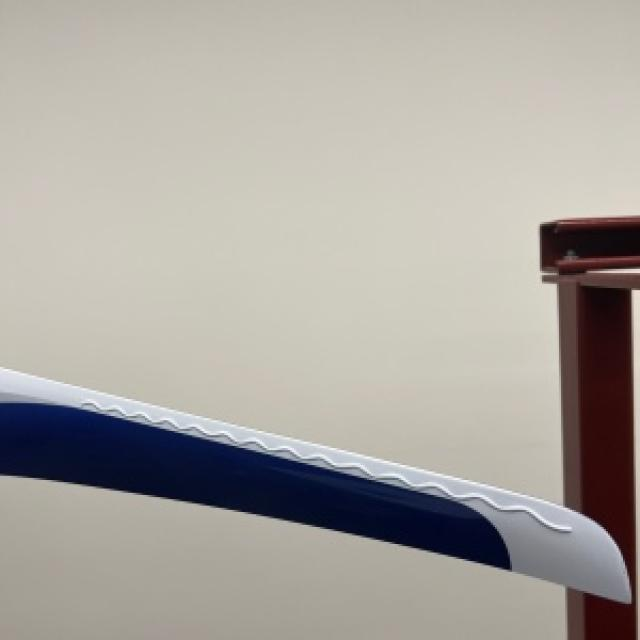healthy: (0, 365, 627, 599)
